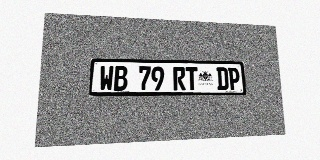7: (138, 66, 151, 91)
9: (151, 66, 164, 90)
B: (114, 66, 128, 91)
D: (216, 67, 229, 90)
P: (228, 67, 240, 90)
R: (173, 67, 186, 90)
T: (185, 67, 198, 90)
W: (99, 66, 114, 91)
